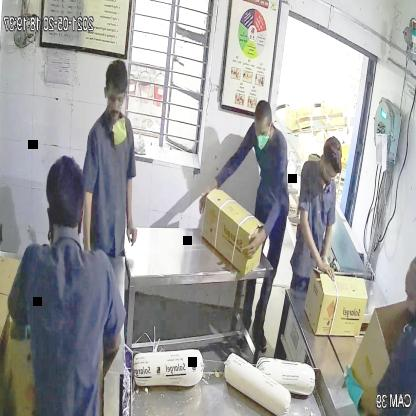goggles: (105, 90, 129, 108)
